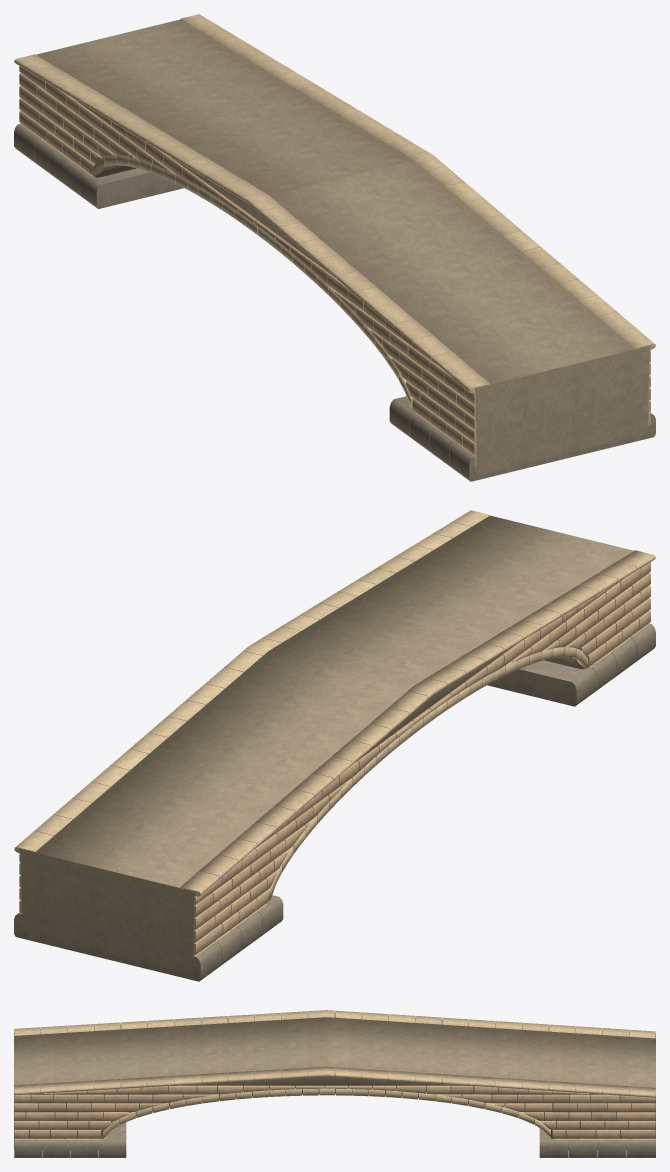
File: west-bridge.glb
3 renders of one model, top to bottom at view 1: azimuth 30°, elevation 25°; view 2: azimuth 150°, elevation 25°; view 3: azimuth 270°, elevation 25°, orthographic. The views are drawn at different scales.
Visible parts, largest first — view 1: west-bridge; view 2: west-bridge; view 3: west-bridge.
Boxes of the visible parts, x1,y1,x2,y2 form: west-bridge: (14,14,655,481); west-bridge: (14,510,655,981); west-bridge: (14,1010,655,1157).
Size of the model in its own units: 4.5 by 2.77 by 19.
2 materials, 2 textured.
